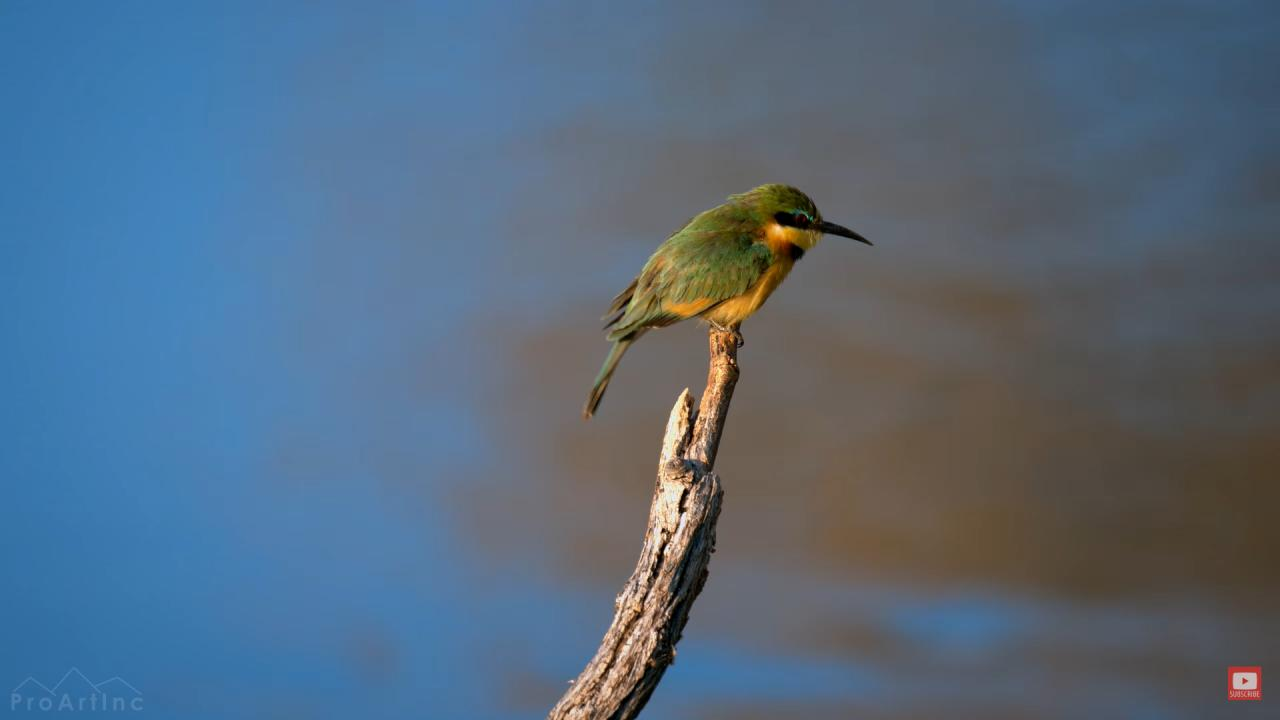Bird: (561, 167, 892, 431)
